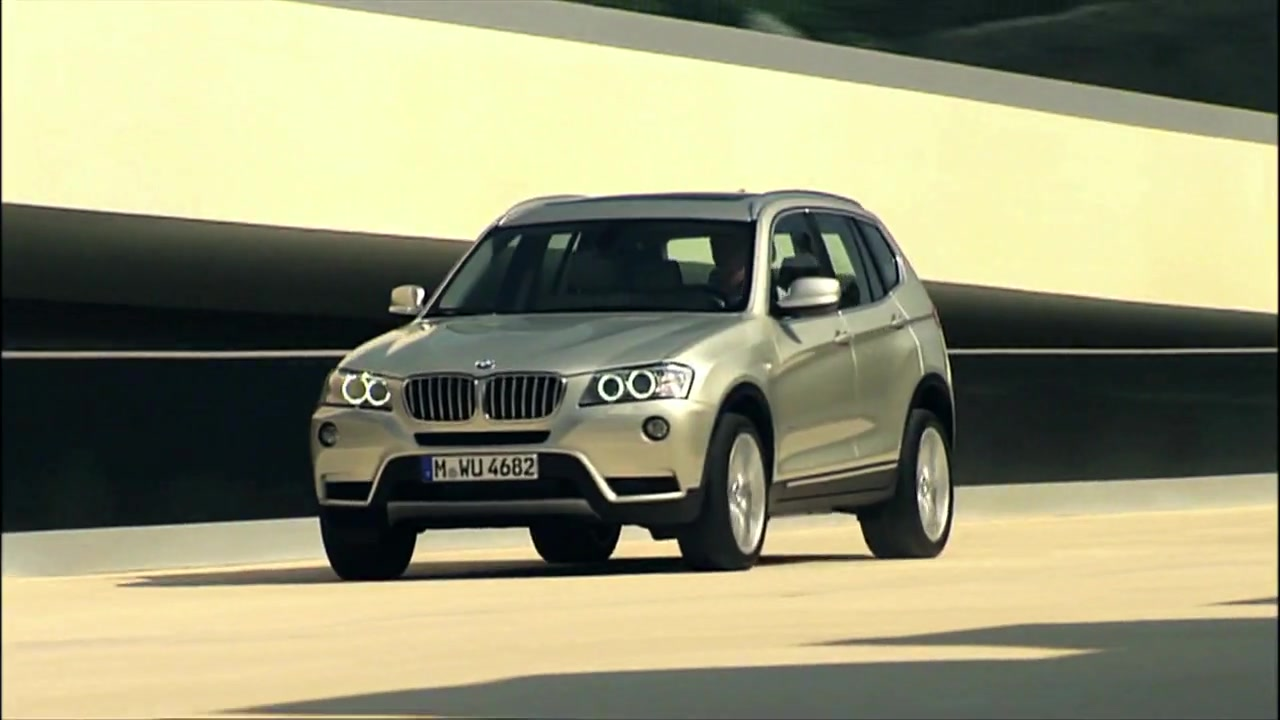car: (306, 187, 964, 578)
